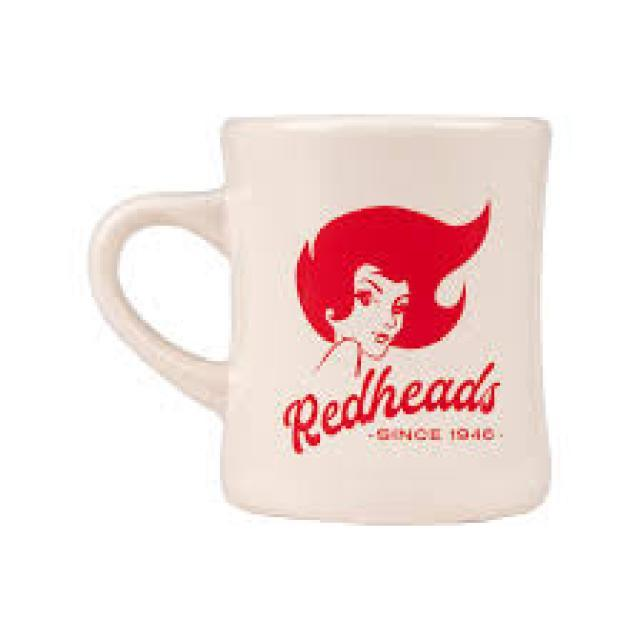taza: (88, 115, 552, 525)
